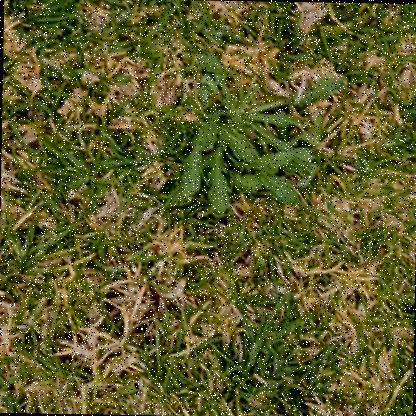Weeds: (170, 53, 344, 216)
